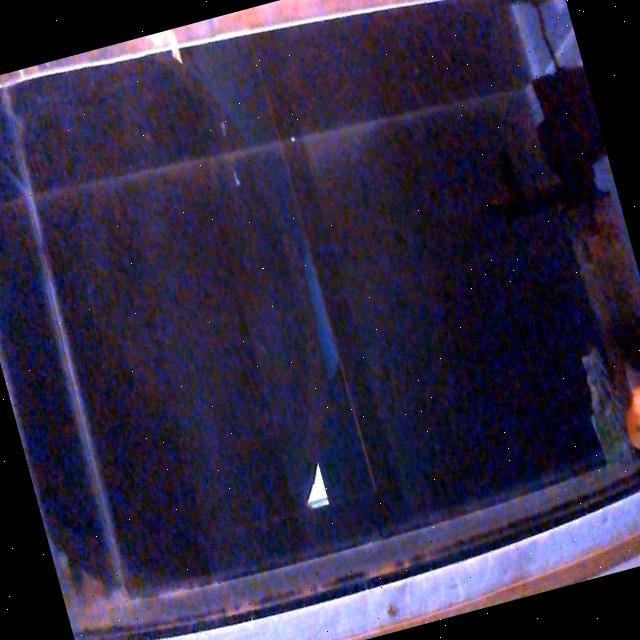fish: (625, 371, 640, 448)
